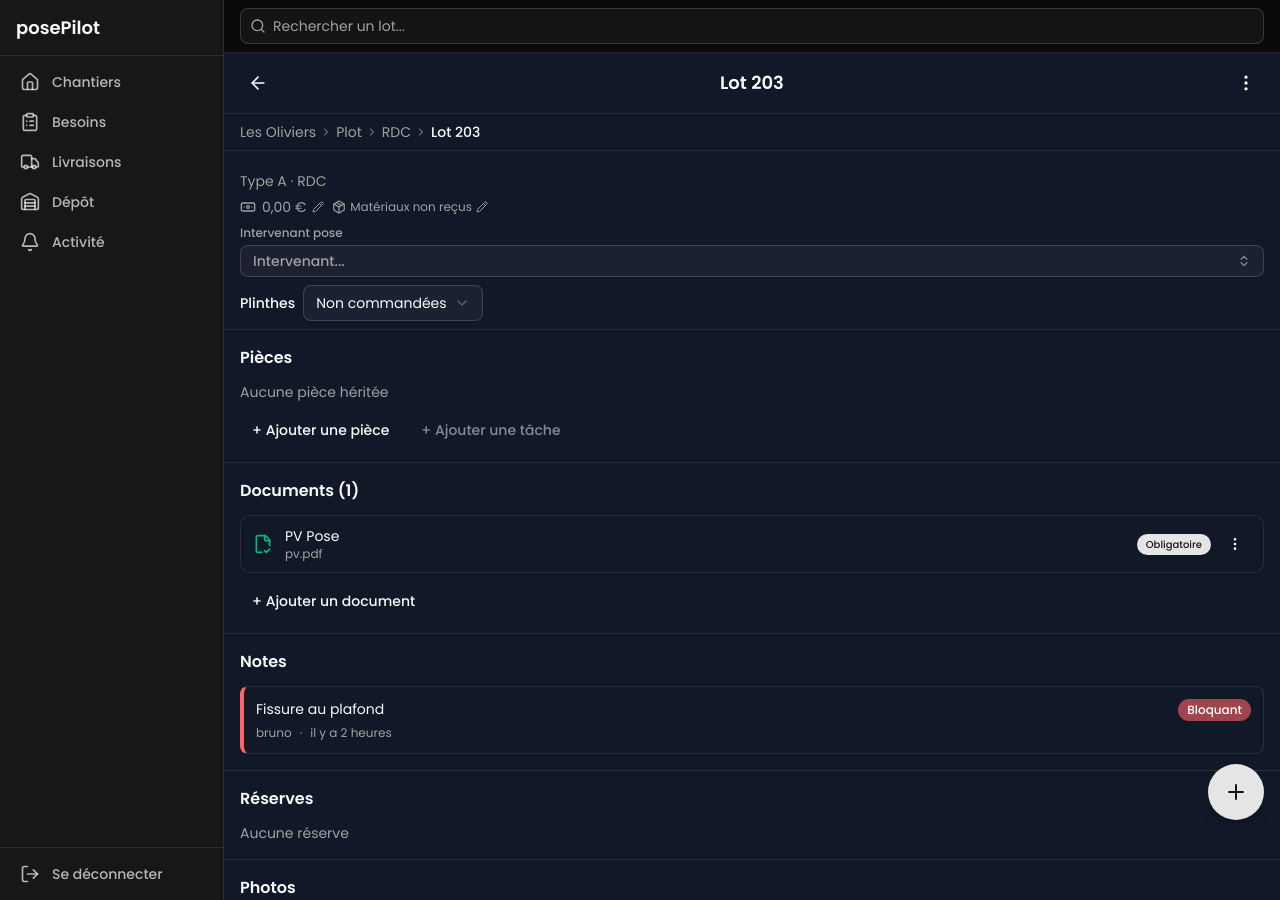
Test: LotIndexPage — Matériaux reçus badge › opens MateriauxSheet when clicking materiaux button
The image size is (1280, 900).
Expected: the heading "Lot 203" is shown, [720,69,784,97]
Click the button with test id "materiaux-status-btn".
click(410, 207)  # box [332,199,488,215]
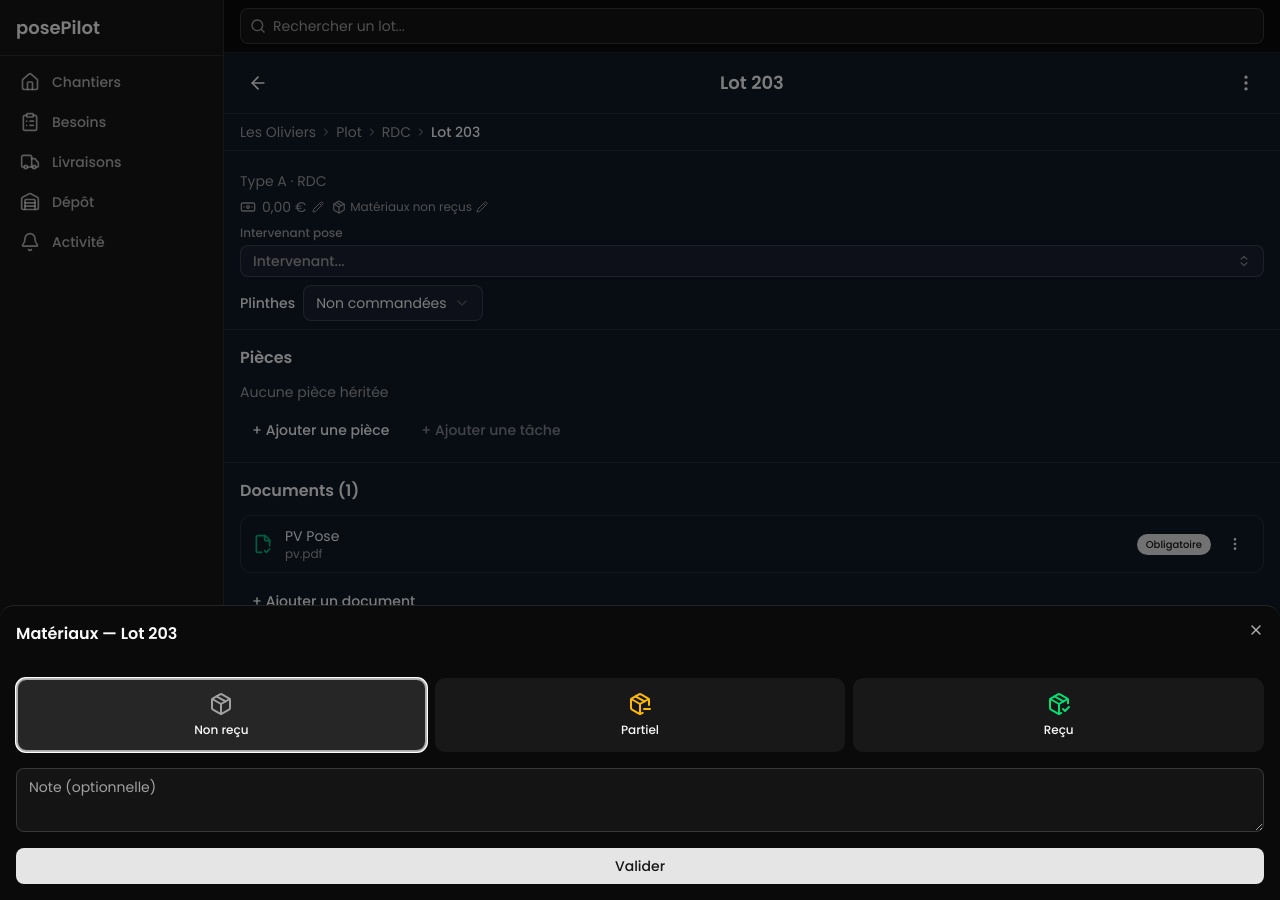
Expected: the heading "Matériaux — Lot 203" is shown, [16,622,177,645]
